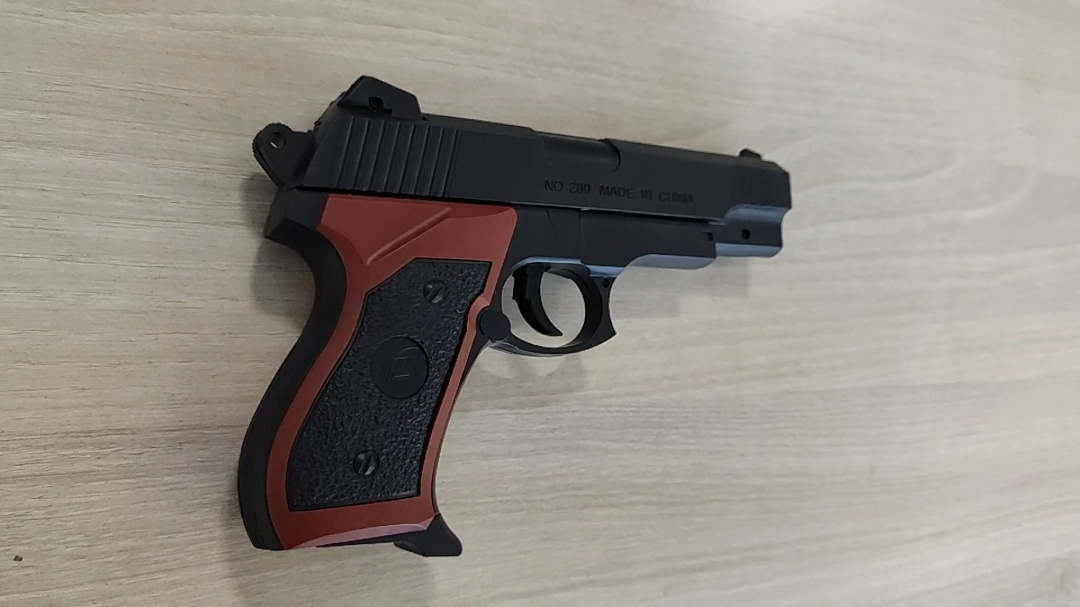gun: (233, 73, 796, 565)
